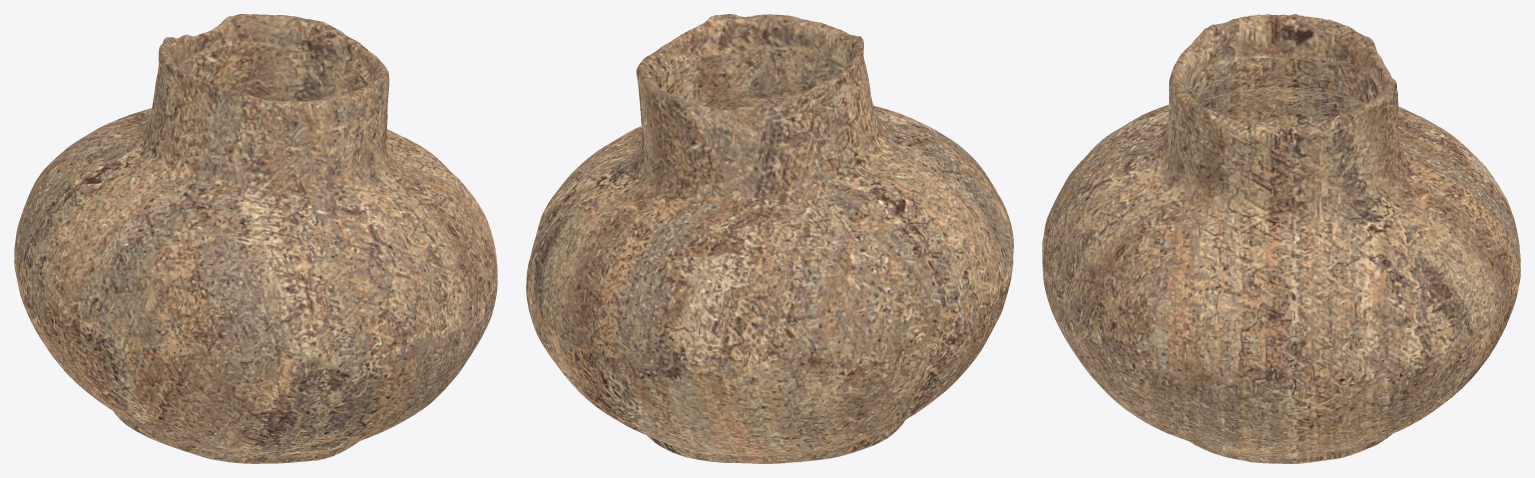
File: Ark_HM_470_HI.glb
3 views of the same model, side by side, from view 1: azimuth 30°, elevation 25°; view 2: azimuth 150°, elevation 25°; view 3: azimuth 270°, elevation 25° (orthographic). The views are drawn at different scales.
Bounding box in the file's own units: 0.4968 × 0.4262 × 0.5.
1 material, 1 textured.
